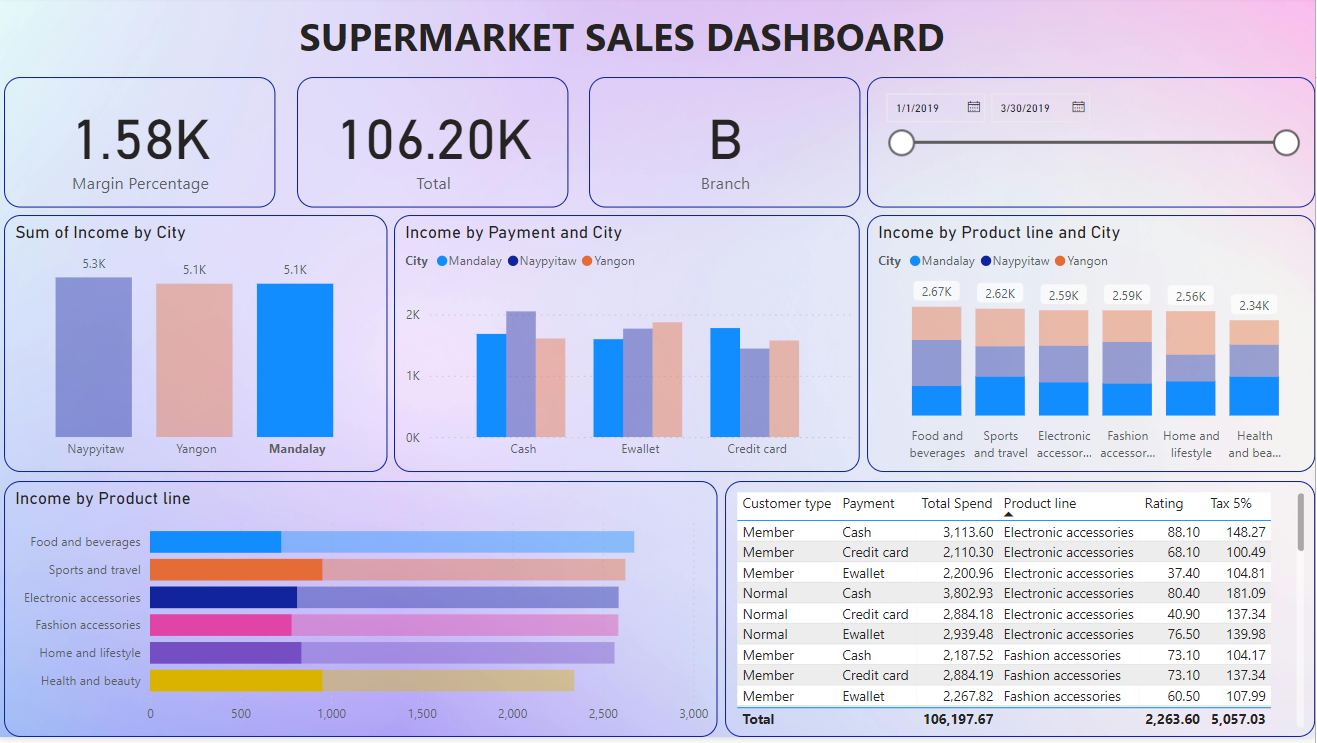

What the dashboard file says about the page in this screenshot:
{"tool":"powerbi","page":{"name":"Page 1","canvas":[1280,720],"ordinal":0},"visuals":[{"type":"columnChart","title":"Sum of Income by City","fields":{"Category":["supermarket_sales - Sheet1.City"],"Y":["Sum(supermarket_sales - Sheet1.gross income)"]},"box":[4.9,212,372.5,250],"z":0},{"type":"clusteredColumnChart","title":"Income by Payment and City","fields":{"Category":["supermarket_sales - Sheet1.Payment"],"Series":["supermarket_sales - Sheet1.City"],"Y":["Sum(supermarket_sales - Sheet1.gross income)"]},"box":[384.2,212,453.3,250],"z":1000},{"type":"card","fields":{"Values":["Sum(supermarket_sales - Sheet1.gross margin percentage)"]},"box":[4.9,77.8,263.6,127.4],"z":2000},{"type":"barChart","title":"Income by Product line","fields":{"Category":["supermarket_sales - Sheet1.Product line"],"Y":["Sum(supermarket_sales - Sheet1.gross income)"]},"box":[4.9,470.8,694.5,249],"z":3000},{"type":"lineStackedColumnComboChart","title":"Income by Product line and City","fields":{"Category":["supermarket_sales - Sheet1.Product line"],"Y":["Sum(supermarket_sales - Sheet1.gross income)"],"Series":["supermarket_sales - Sheet1.City"]},"box":[844.3,212,435.7,250],"z":4000},{"type":"tableEx","fields":{"Values":["supermarket_sales - Sheet1.Customer type","supermarket_sales - Sheet1.Payment","Sum(supermarket_sales - Sheet1.Total)","supermarket_sales - Sheet1.Product line","Sum(supermarket_sales - Sheet1.Rating)","Sum(supermarket_sales - Sheet1.Tax 5%)"]},"box":[706.1,470.8,573.9,249],"z":5000},{"type":"textbox","box":[286.9,7.8,646.8,59.3],"z":6000},{"type":"slicer","fields":{"Values":["supermarket_sales - Sheet1.Date"]},"box":[844.3,77.8,435.7,127.4],"z":7000},{"type":"card","fields":{"Values":["Sum(supermarket_sales - Sheet1.Total)"]},"box":[289.8,77.8,263.6,127.4],"z":8000},{"type":"card","fields":{"Values":["Min(supermarket_sales - Sheet1.Branch)"]},"box":[573.9,77.8,263.6,127.4],"z":9000}]}

Visuals, with their boxes in screenshot pixels (x1, y1, x2, y2), scaled from the page's 1280x720 canvas onto the 1317x743 screenshot:
"Sum of Income by City" columnChart: bbox=(5, 219, 388, 477)
"Income by Payment and City" clusteredColumnChart: bbox=(395, 219, 862, 477)
card - Sum(supermarket_sales - Sheet1.gross margin percentage): bbox=(5, 80, 276, 212)
"Income by Product line" barChart: bbox=(5, 486, 720, 742)
"Income by Product line and City" lineStackedColumnComboChart: bbox=(869, 219, 1316, 477)
tableEx - supermarket_sales - Sheet1.Customer type x supermarket_sales - Sheet1.Payment: bbox=(727, 486, 1316, 742)
textbox: bbox=(295, 8, 961, 69)
slicer - supermarket_sales - Sheet1.Date: bbox=(869, 80, 1316, 212)
card - Sum(supermarket_sales - Sheet1.Total): bbox=(298, 80, 569, 212)
card - Min(supermarket_sales - Sheet1.Branch): bbox=(590, 80, 862, 212)
